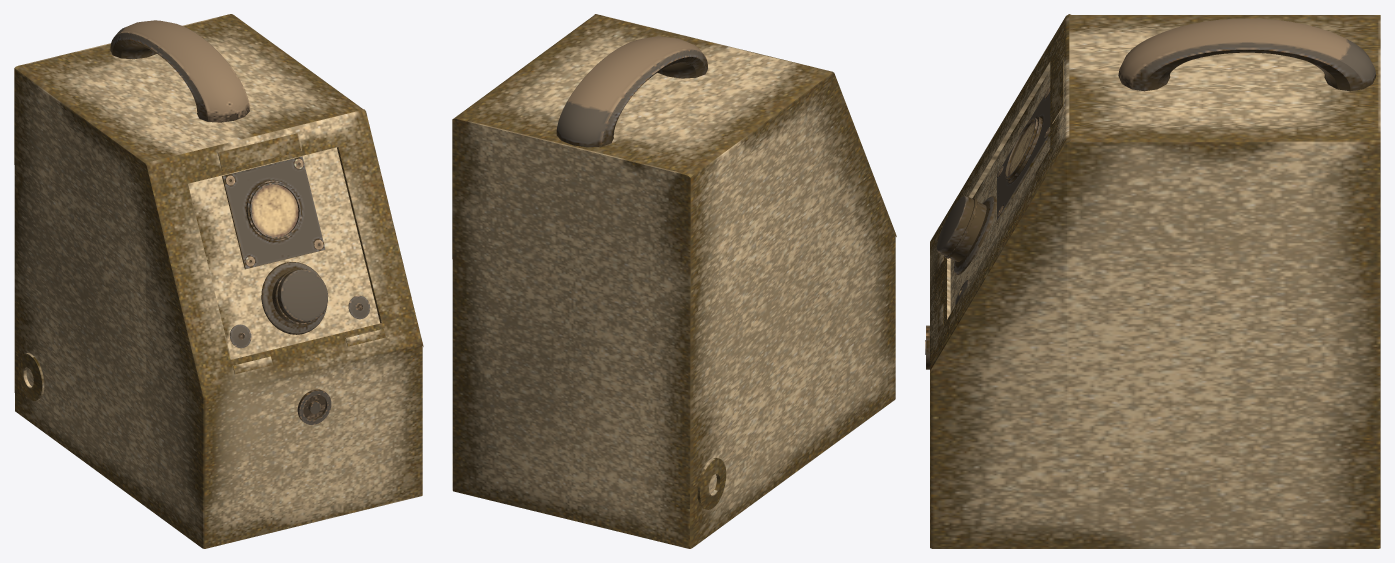
The model's file is eksperyment3.glb.
3 renders of one model, left to right at view 1: azimuth 30°, elevation 25°; view 2: azimuth 150°, elevation 25°; view 3: azimuth 270°, elevation 25°, orthographic. The views are drawn at different scales.
Visible parts, largest first — view 1: eksperyment3; view 2: eksperyment3; view 3: eksperyment3.
Part boxes in pixels (<box>): eksperyment3: <box>14,14,423,548</box>; eksperyment3: <box>452,14,896,548</box>; eksperyment3: <box>925,14,1380,548</box>.
Bounding box in the file's own units: 0.2184 × 0.3612 × 0.3245.
1 material, 1 textured.
